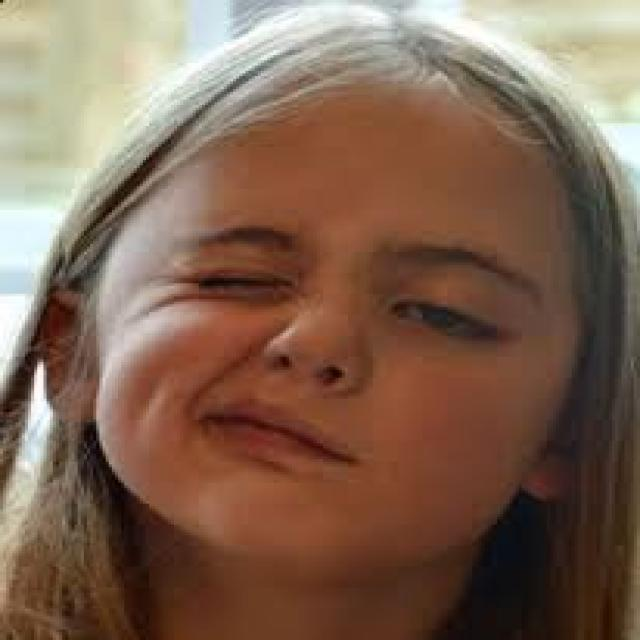stroke_face: (126, 73, 640, 576)
